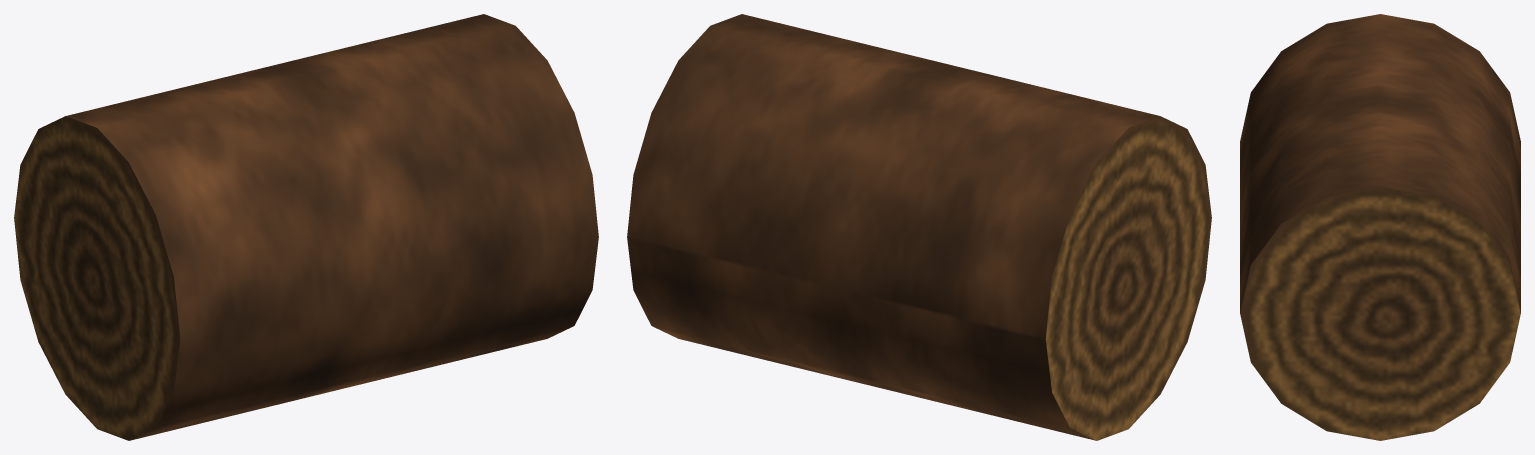
File: wood.glb
3 renders of one model, left to right at view 1: azimuth 30°, elevation 25°; view 2: azimuth 150°, elevation 25°; view 3: azimuth 270°, elevation 25°, orthographic. The views are drawn at different scales.
Visible parts, largest first — view 1: wood; view 2: wood; view 3: wood.
Part boxes in pixels (x1,y1,x2,y2): wood: [14, 14, 598, 440]; wood: [627, 14, 1211, 440]; wood: [1240, 14, 1520, 440].
Size of the model in its own units: 0.32 by 0.22 by 0.22.
Materials: 2 (2 with a texture image).
